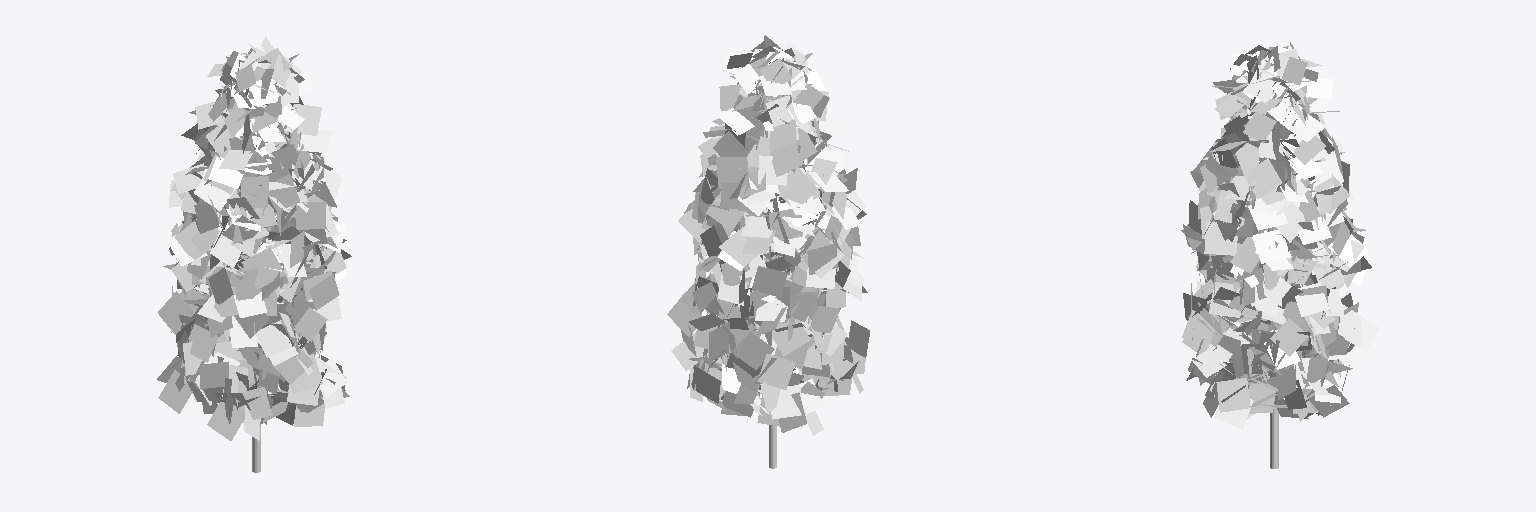
The model's file is Scots_Pine_Model_0.obj.
The picture shows the model from 3 angles: view 1: azimuth 30°, elevation 25°; view 2: azimuth 150°, elevation 25°; view 3: azimuth 270°, elevation 25°; orthographic projection.
Visible parts, largest first — view 1: Foliage__leafcard; view 2: Foliage__leafcard; view 3: Foliage__leafcard, Bark.
Boxes of the visible parts, box(x1,y1,x2,y2) form: Foliage__leafcard: box(157, 36, 351, 440); Foliage__leafcard: box(667, 35, 869, 435); Foliage__leafcard: box(1181, 42, 1378, 429); Bark: box(1266, 242, 1320, 468).
Size of the model in its own units: 13.26 by 32 by 13.55.